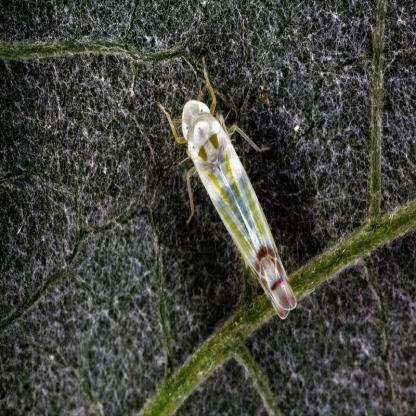green-leafhopper: (158, 58, 300, 322)
